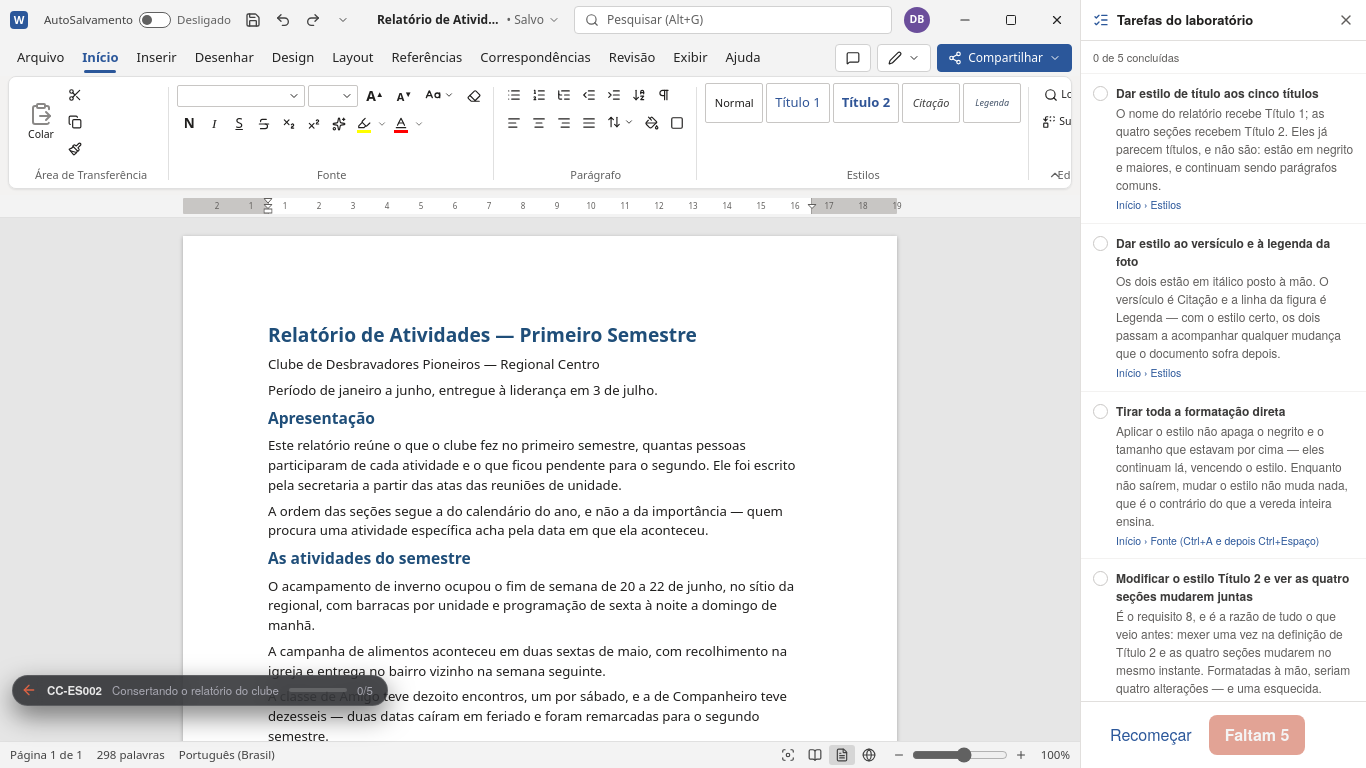
Scenario: o relatório abre por consertar › gerar o sumário antes dos estilos devolve a caixa vazia do Word
The image size is (1366, 768).
Click the tab "Referências": (427, 58) [382, 40, 471, 76]
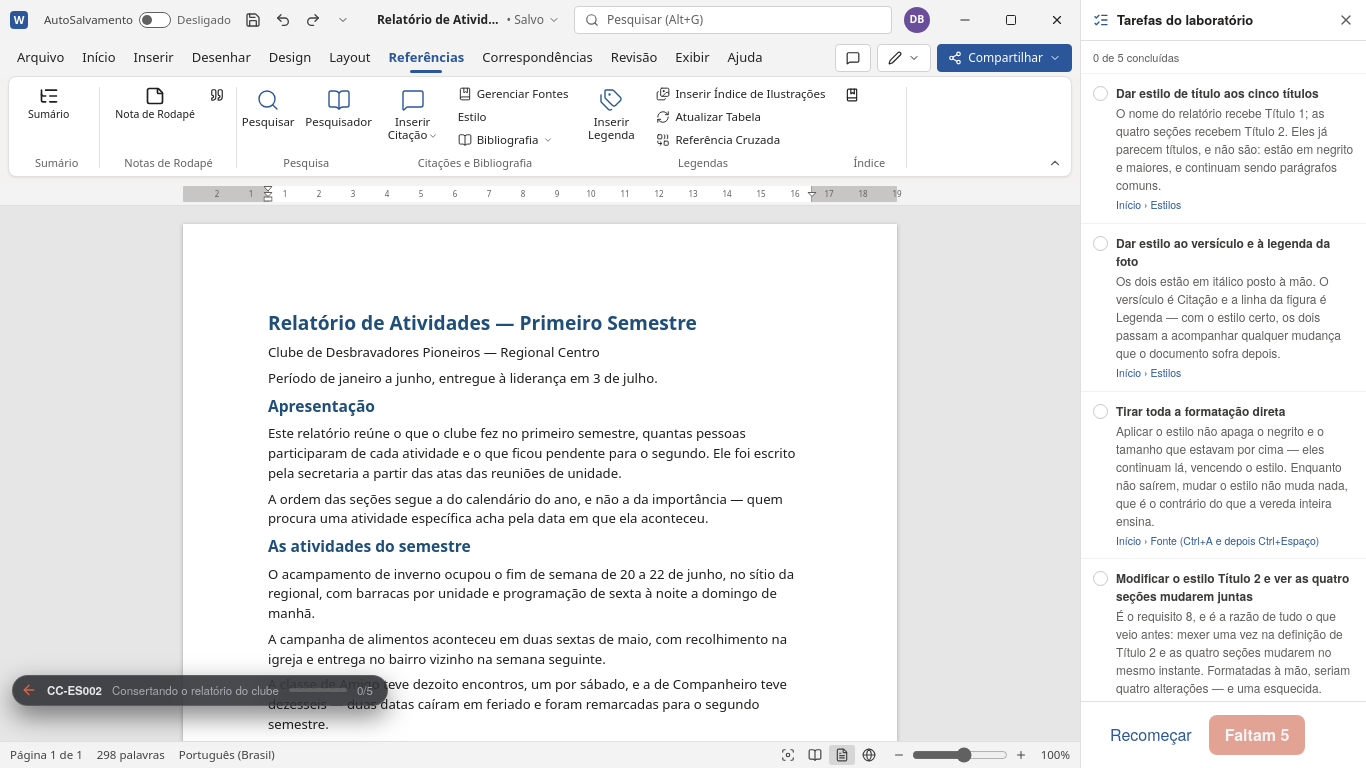
Now the button "Sumário" is shown
Click the button "Sumário": (49, 104) [21, 83, 76, 126]
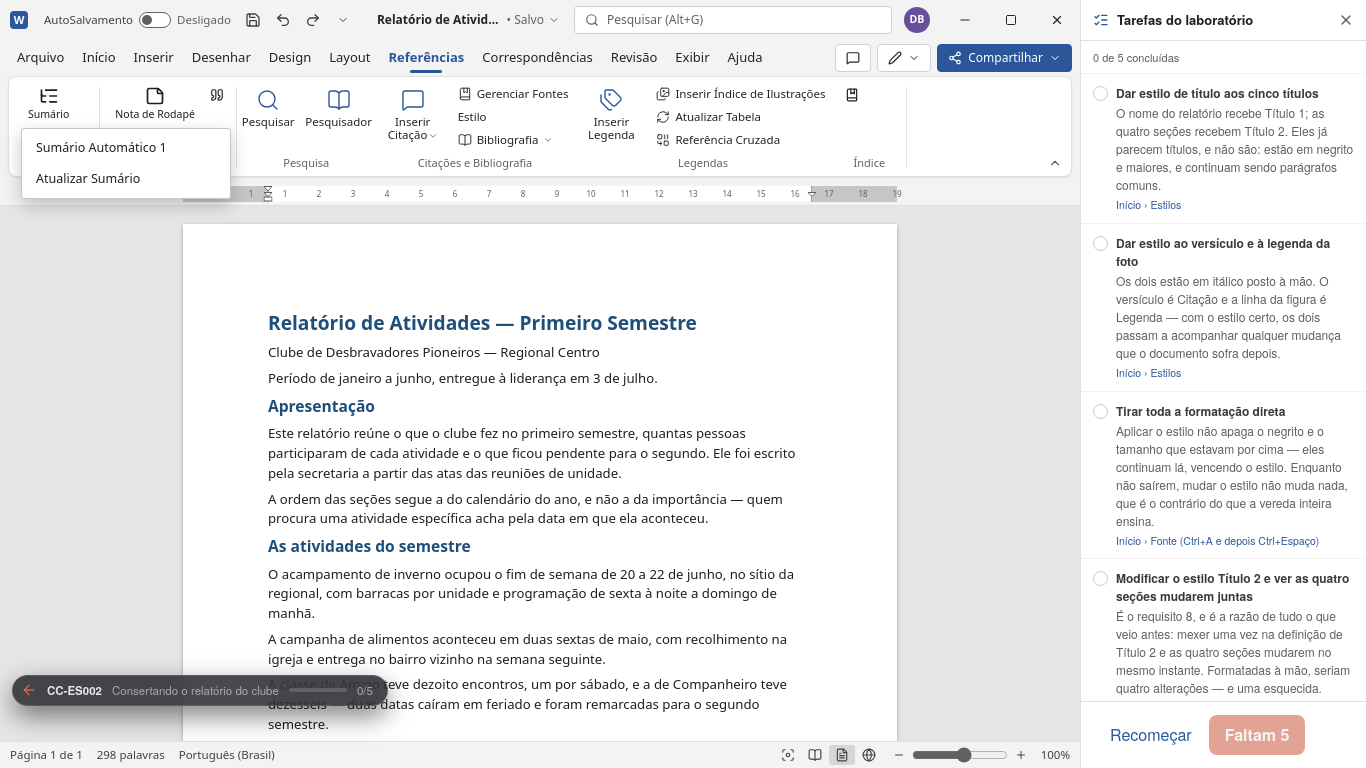
Now the menu item with class "wd-menu-item" showing "Sumário Automático 1" is shown
Click the menu item with class "wd-menu-item" showing "Sumário Automático 1": (126, 148) [26, 133, 226, 164]
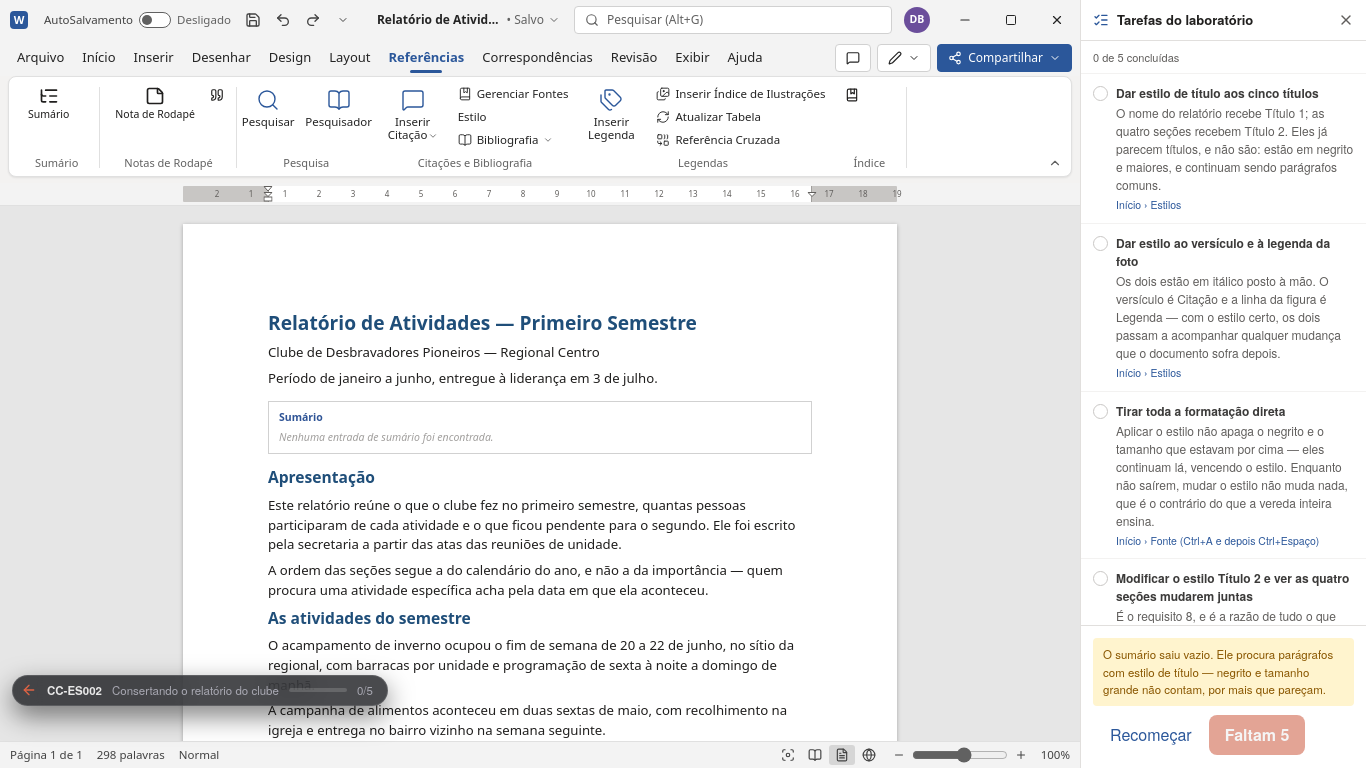
Now the text "Nenhuma entrada de sumário foi encontrada" is shown, box [279, 430, 494, 444]
